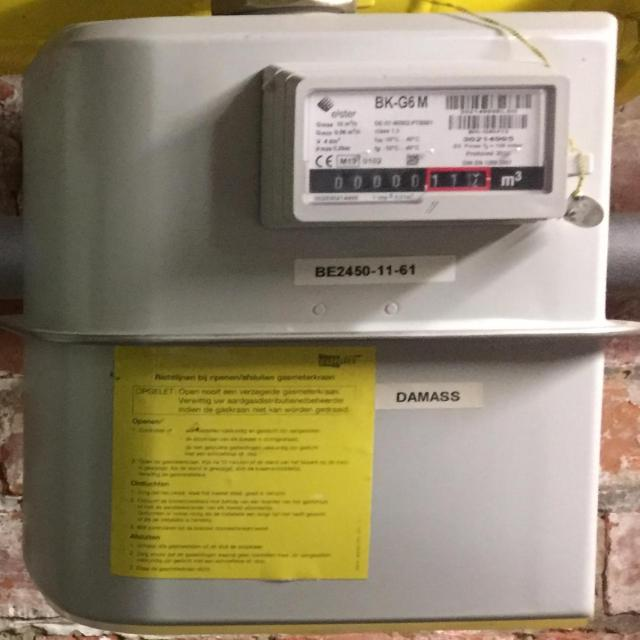gaz_meter: (309, 93, 548, 191)
indication: (326, 165, 494, 195)
